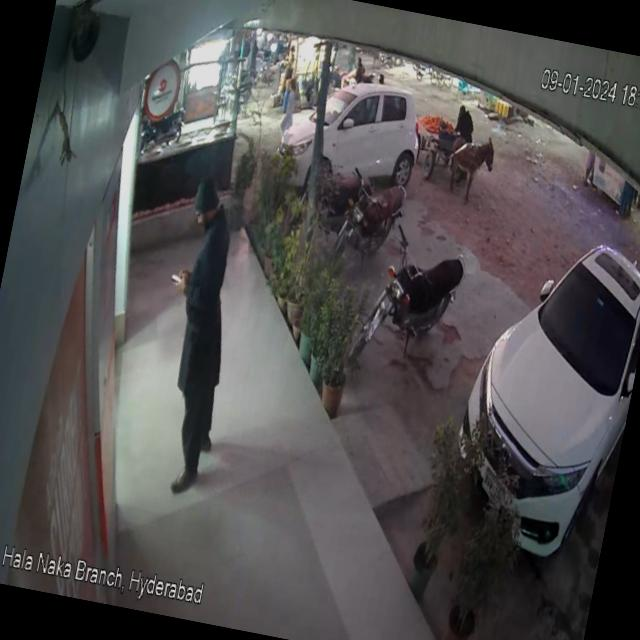Car: (434, 181, 640, 580), (254, 51, 435, 198)
Motorcycle: (346, 209, 483, 386), (336, 165, 416, 266)
